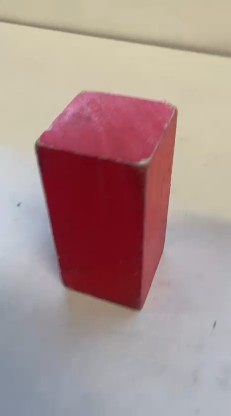red: (40, 68, 173, 310)
